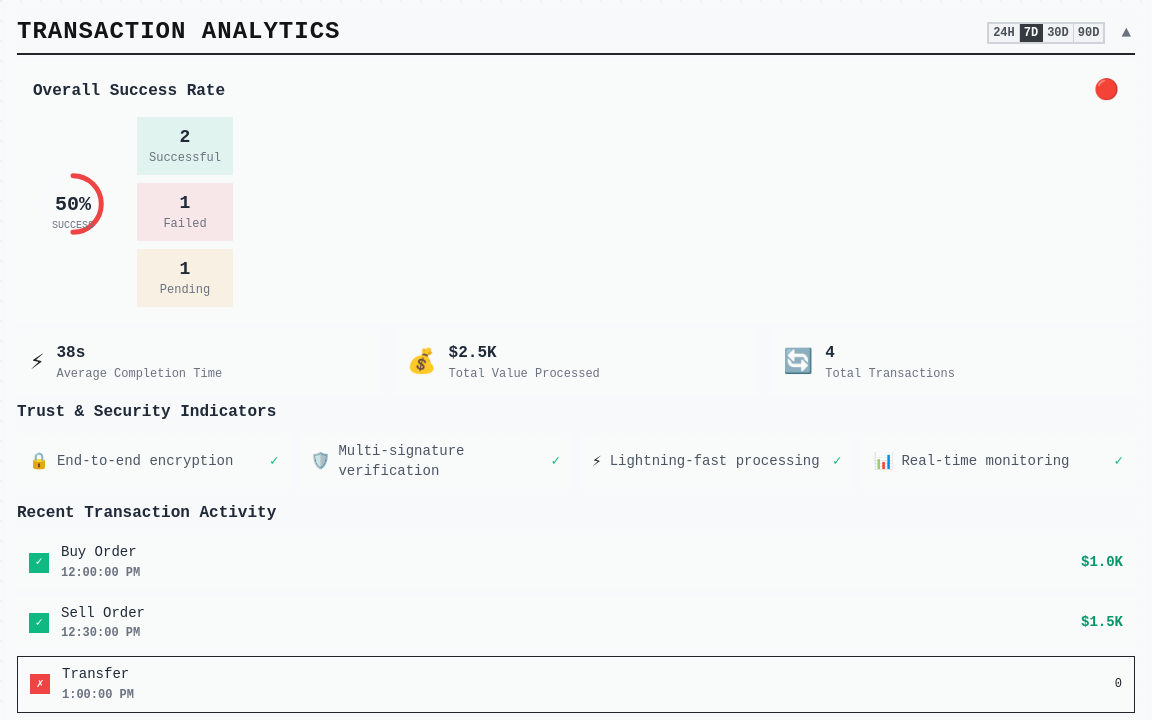
Test case: TransactionAnalytics › toggles expanded/collapsed state
Expected: the heading "Overall Success Rate" is shown, [33,81,225,101]
# Click collapse button
Click the button "▲".
click(1126, 33)  # box [1117,20,1135,46]
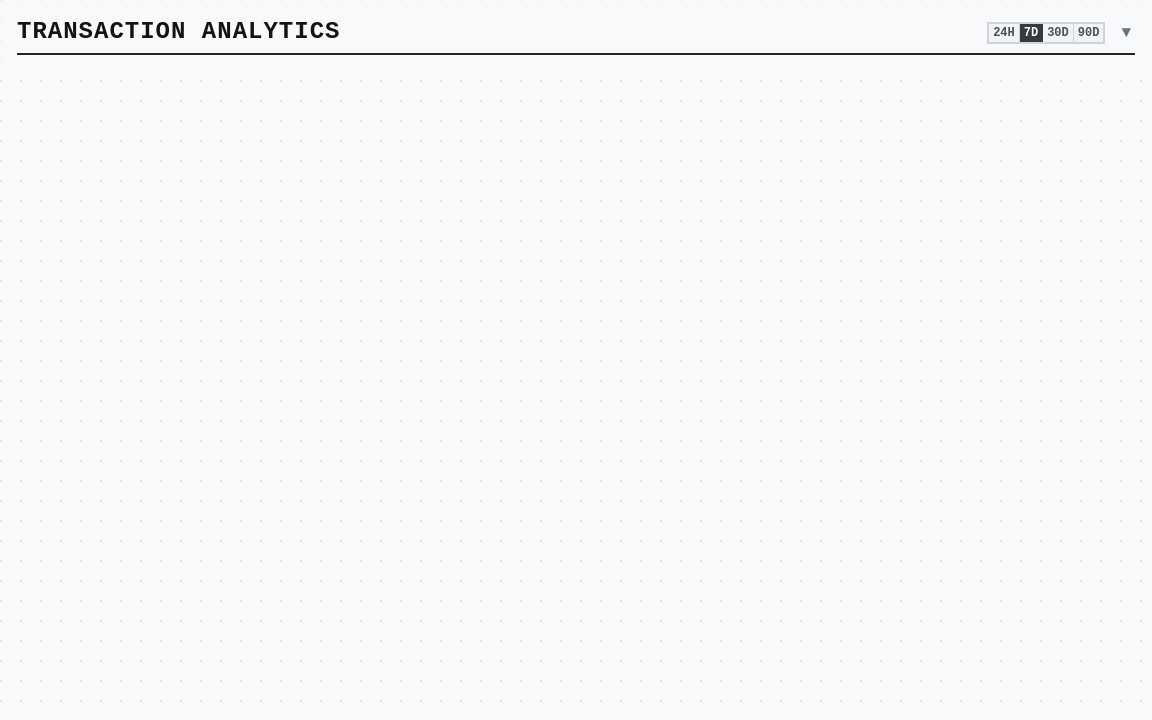
Expected: the heading "Overall Success Rate" is gone
# Click expand button
Click the button "▼".
click(1126, 33)  # box [1117,20,1135,46]
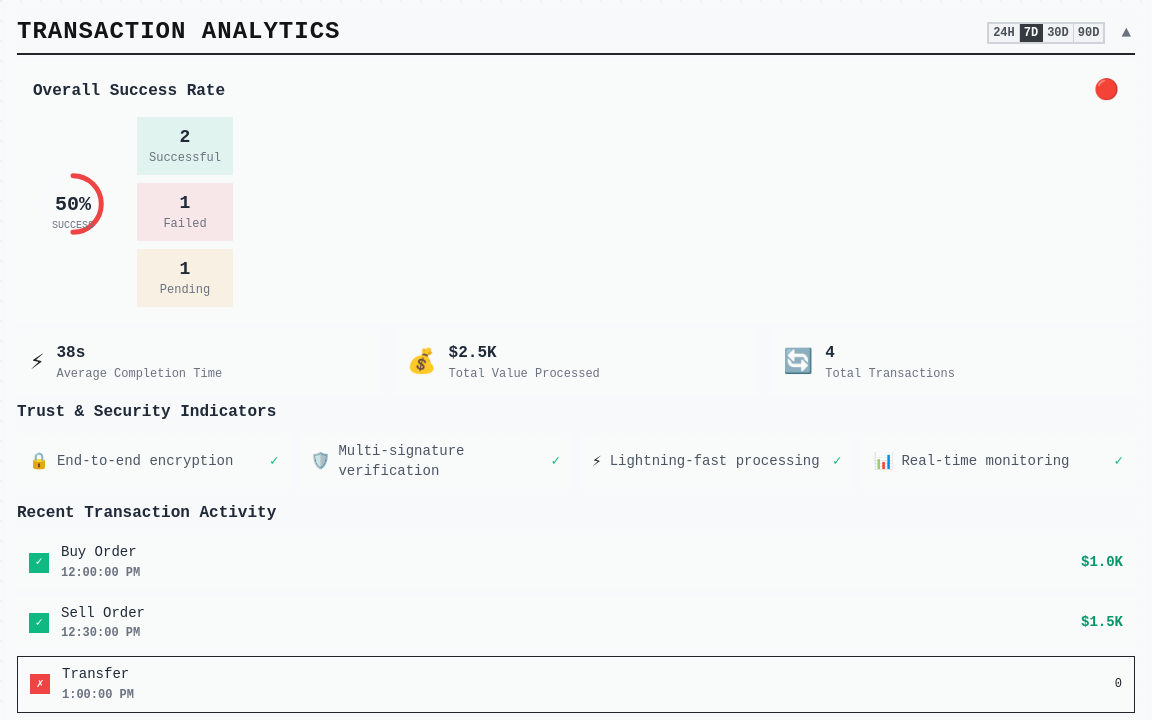
Expected: the heading "Overall Success Rate" is shown, [33,81,225,101]
